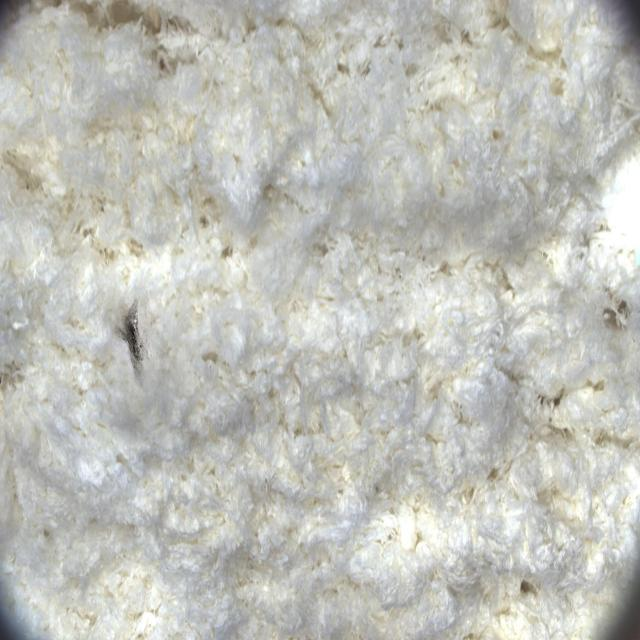dust: (91, 285, 173, 393)
